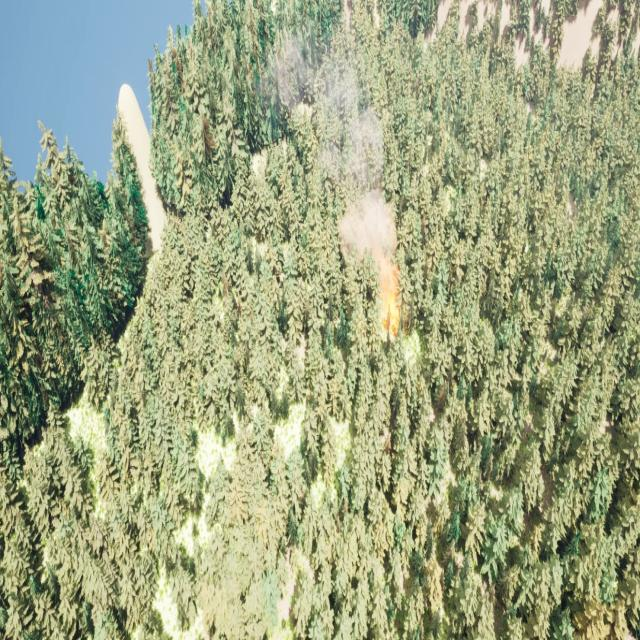fire: (378, 268, 409, 330)
smoke: (268, 35, 402, 263)
